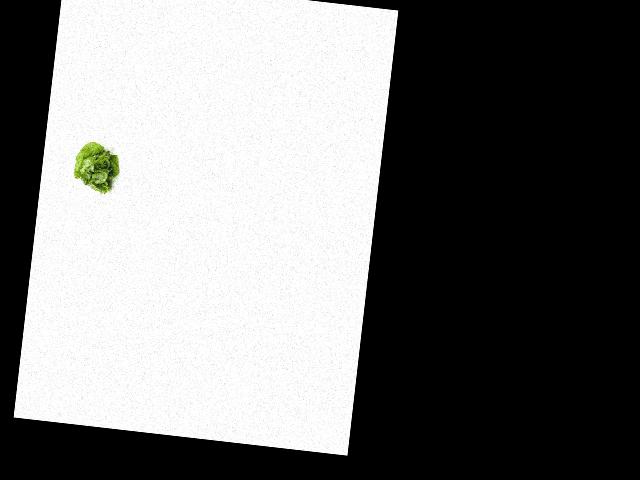lettuce: (67, 138, 125, 196)
